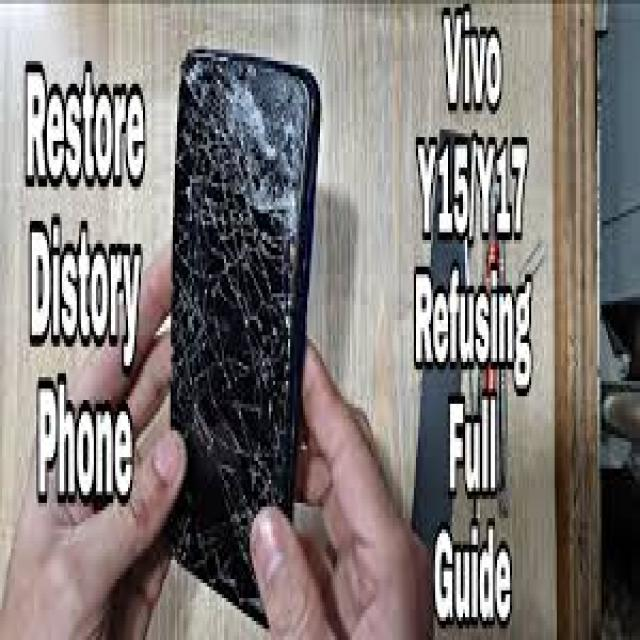mobile phone: (162, 42, 322, 625)
